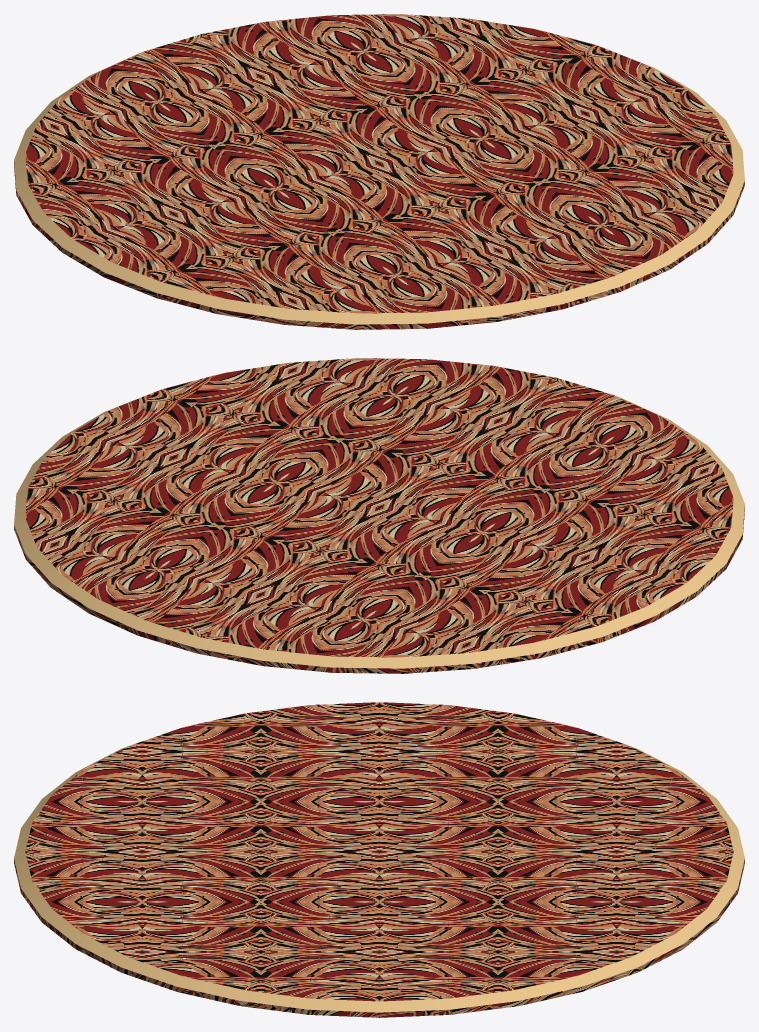
The model's file is island_collider.gltf.
The picture shows the model from 3 angles, top to bottom: view 1: azimuth 30°, elevation 25°; view 2: azimuth 150°, elevation 25°; view 3: azimuth 270°, elevation 25°; orthographic projection.
Visible parts, largest first — view 1: island; view 2: island; view 3: island.
Boxes of the visible parts, x1=… form: island: x1=14, y1=14, x2=744, y2=329; island: x1=14, y1=358, x2=744, y2=673; island: x1=14, y1=702, x2=744, y2=1017.
Size of what is drawn, in the model's own units: 7.24 by 0.1261 by 7.24.
2 materials, 1 textured.
